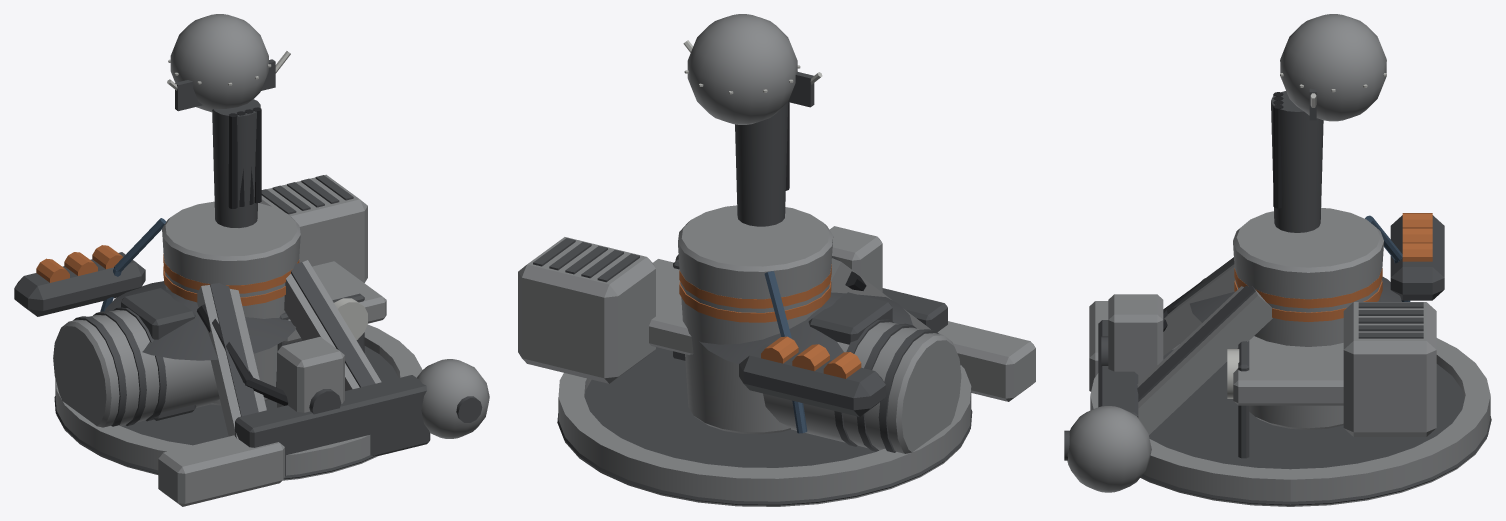
The model's file is tesla-turret.glb.
3 renders of one model, left to right at view 1: azimuth 30°, elevation 25°; view 2: azimuth 150°, elevation 25°; view 3: azimuth 270°, elevation 25°, orthographic. The views are drawn at different scales.
Visible parts, largest first — view 1: body, anim_turret_head; view 2: body, anim_turret_head; view 3: body, anim_turret_head.
Boxes of the visible parts, x1=… form: body: x1=14, y1=174, x2=489, y2=506; anim_turret_head: x1=167, y1=14, x2=290, y2=227; body: x1=518, y1=205, x2=1035, y2=506; anim_turret_head: x1=683, y1=14, x2=822, y2=226; body: x1=1064, y1=208, x2=1491, y2=506; anim_turret_head: x1=1271, y1=14, x2=1386, y2=232.
Bounding box in the file's own units: 4.03 × 4.45 × 4.27.
